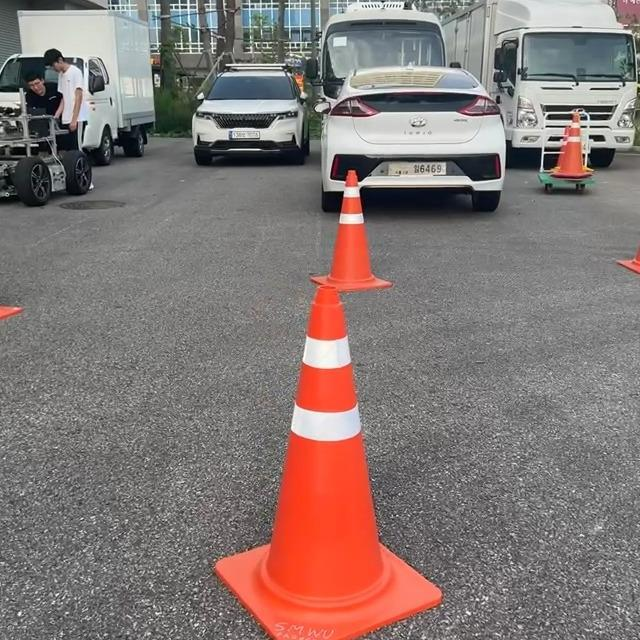fallen_object: (236, 264, 487, 640), (526, 90, 640, 239), (293, 170, 397, 298)
